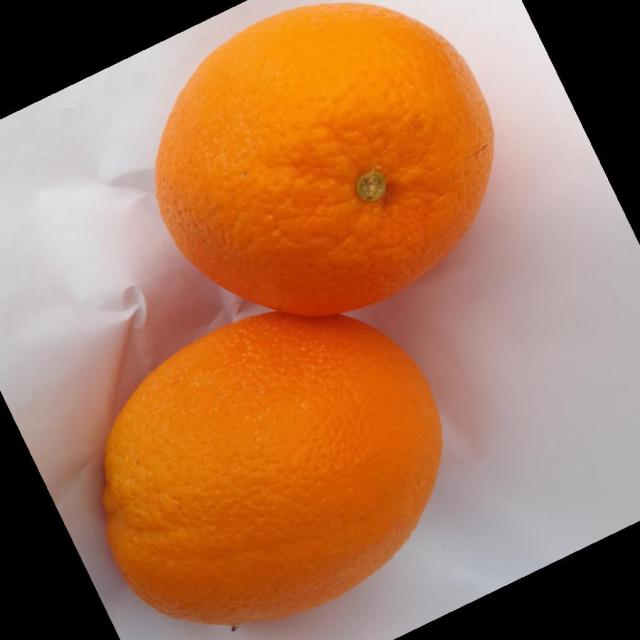fresh orange: (101, 310, 444, 627), (153, 1, 495, 317)
